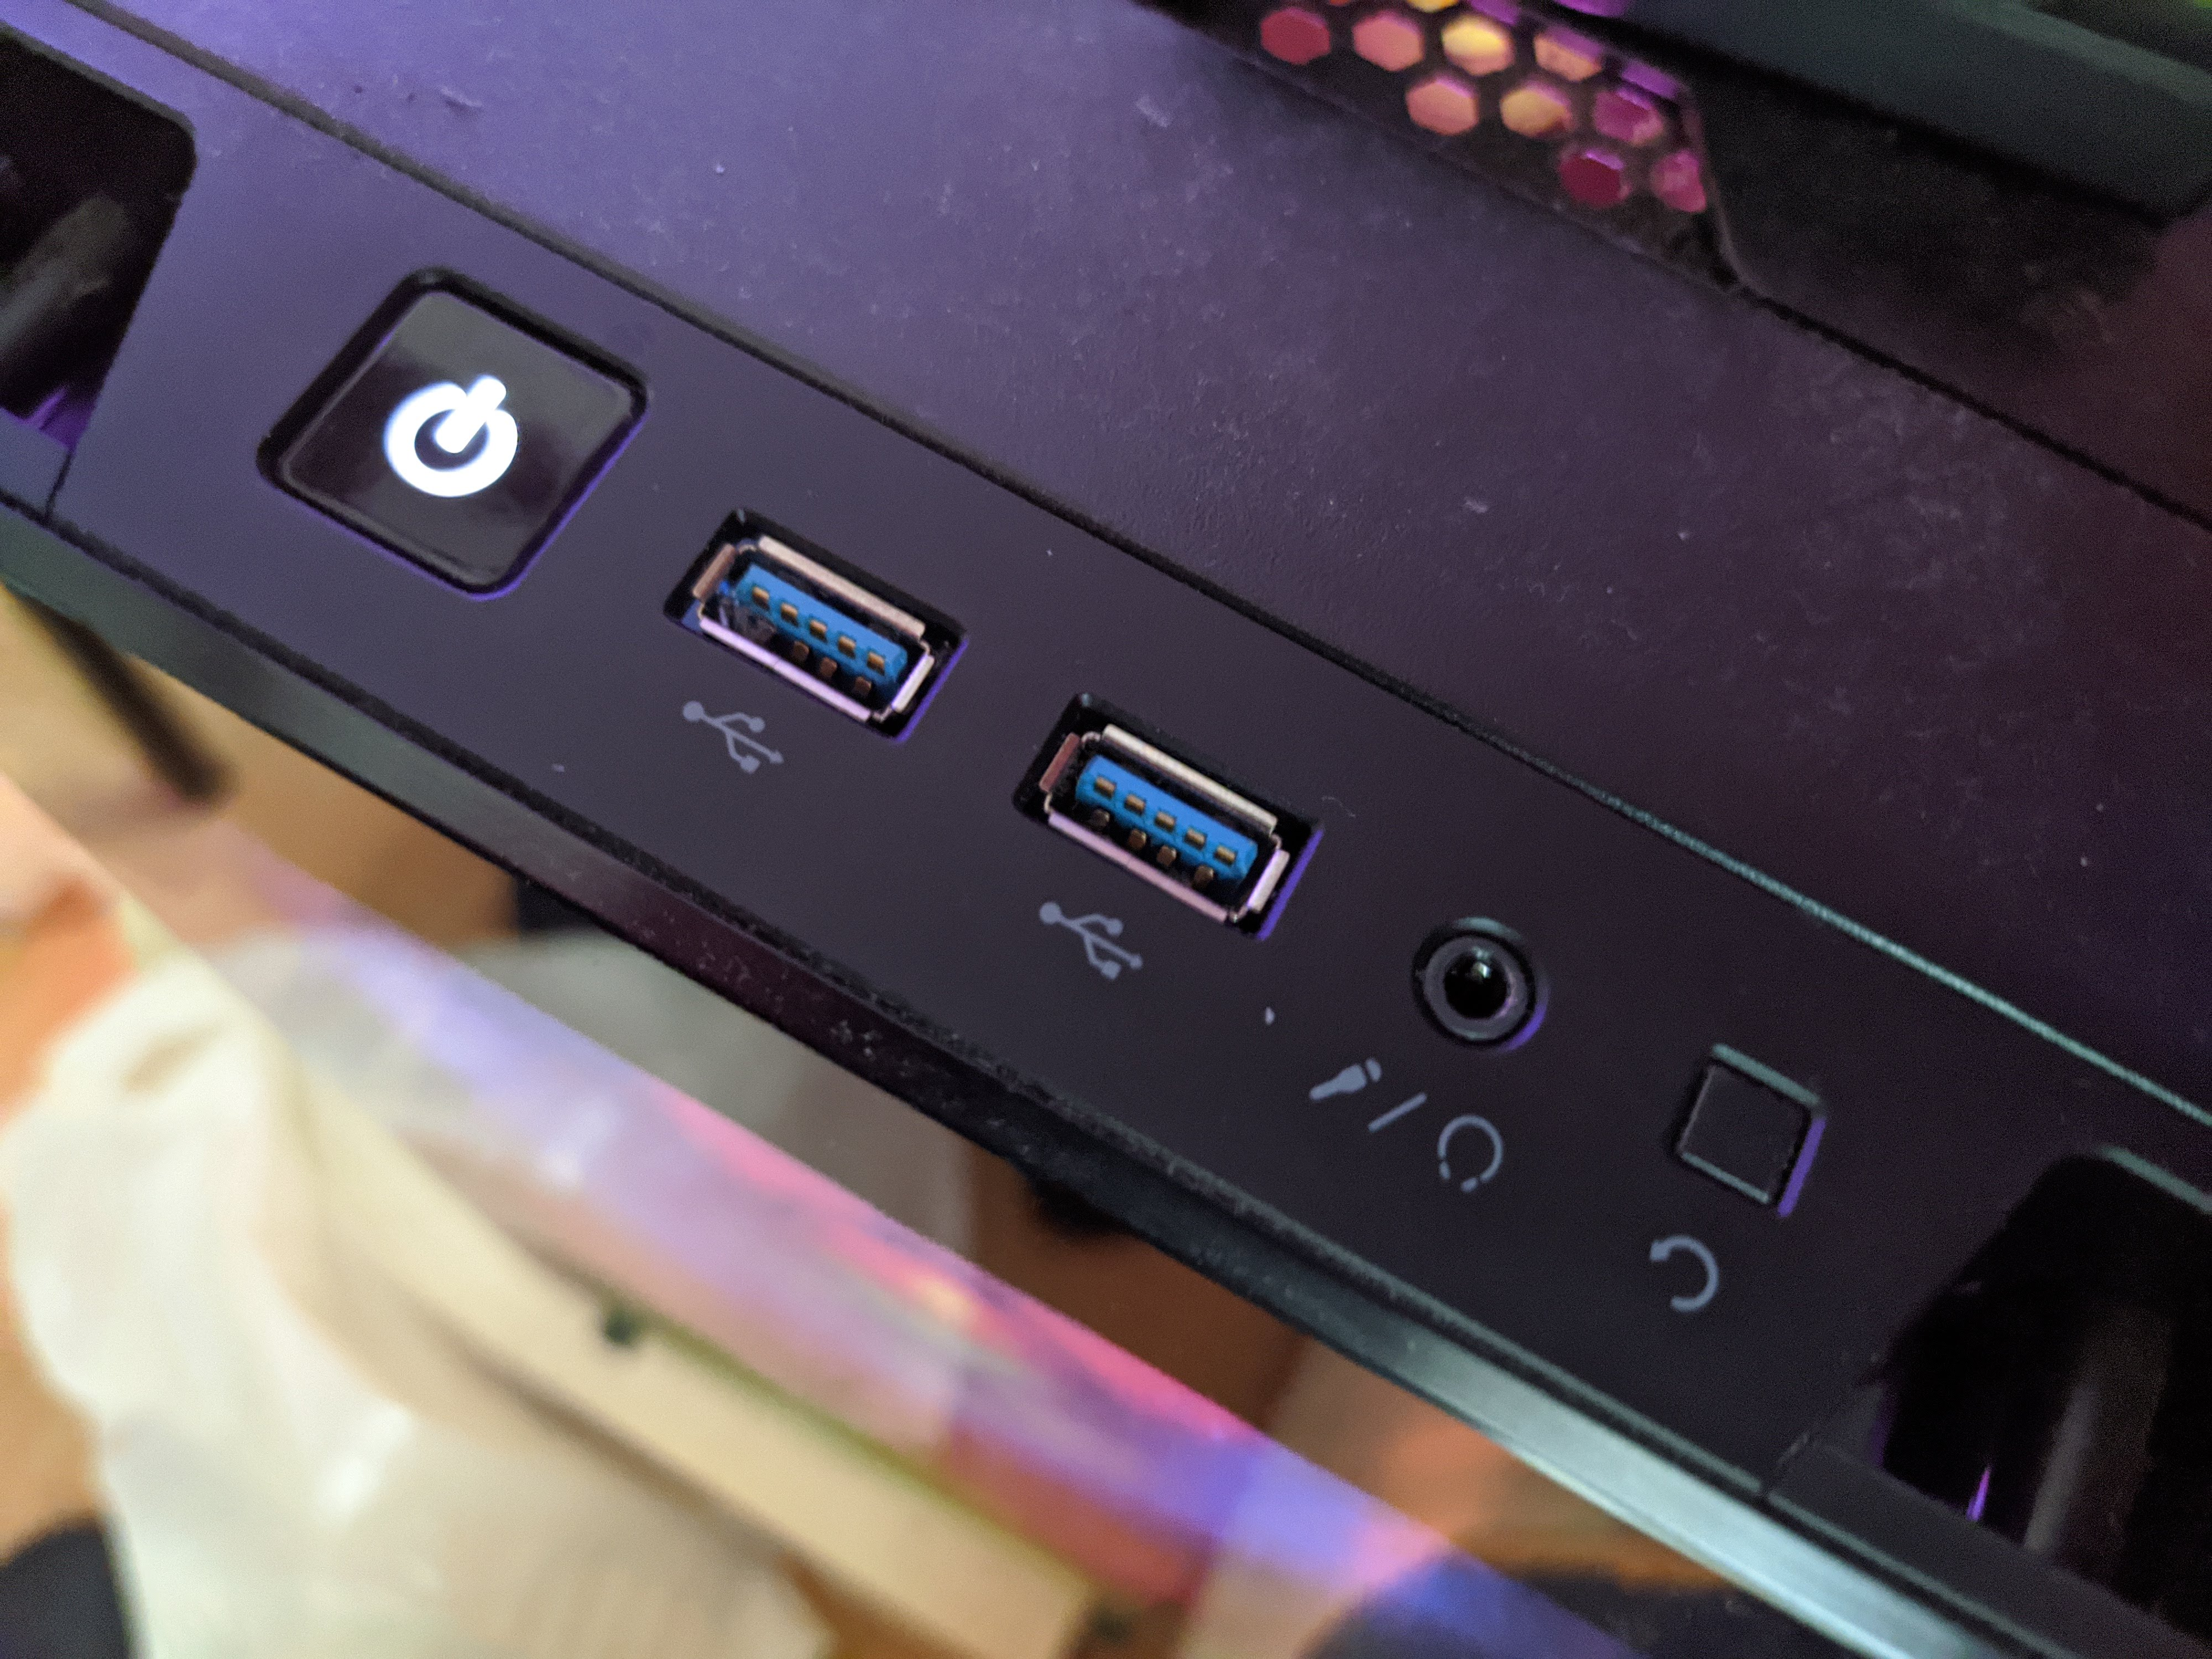usbport_in: (1043, 697, 1291, 957), (685, 504, 937, 737)
